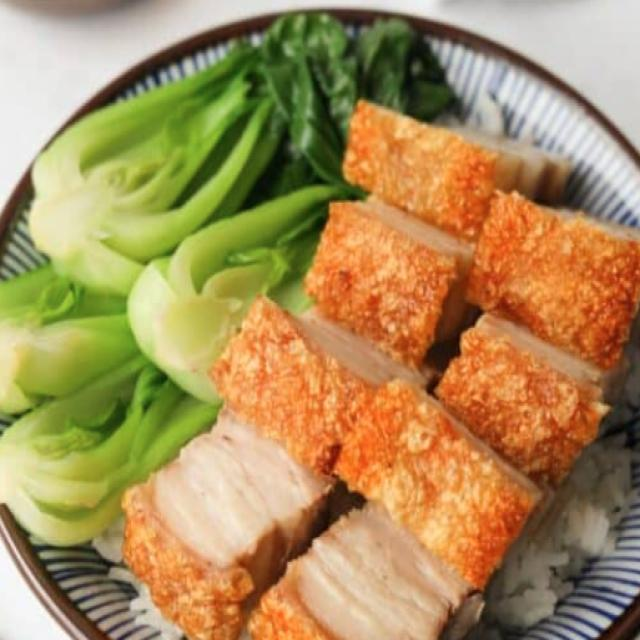Carbohydrate: (129, 217, 619, 634)
Kaow-Crispymoo: (11, 12, 640, 640)
Protein: (125, 97, 640, 640)
Vegetable: (0, 12, 455, 548)
